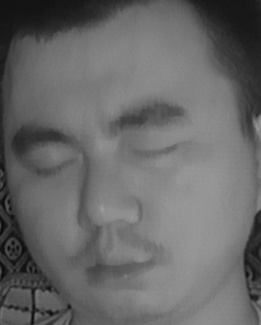blink: (130, 133, 182, 169), (28, 150, 75, 181)
mouth: (75, 235, 160, 292)
